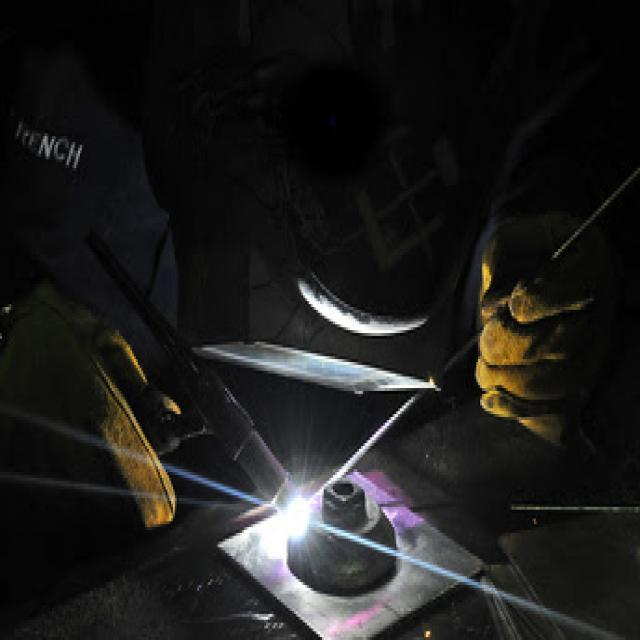welding: (285, 497, 310, 539)
